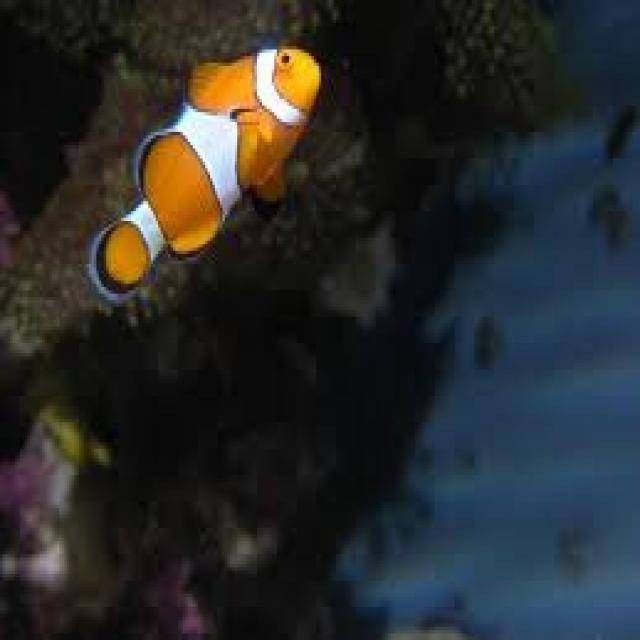ClownFish: (94, 44, 322, 301)
